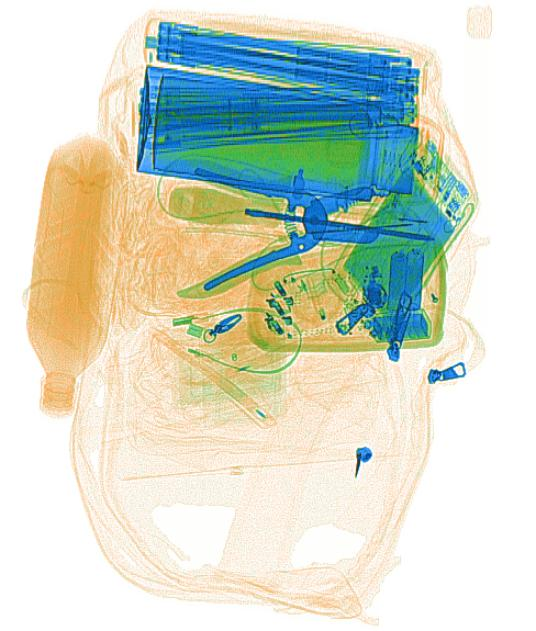battery: (385, 247, 425, 315), (365, 309, 432, 343)
